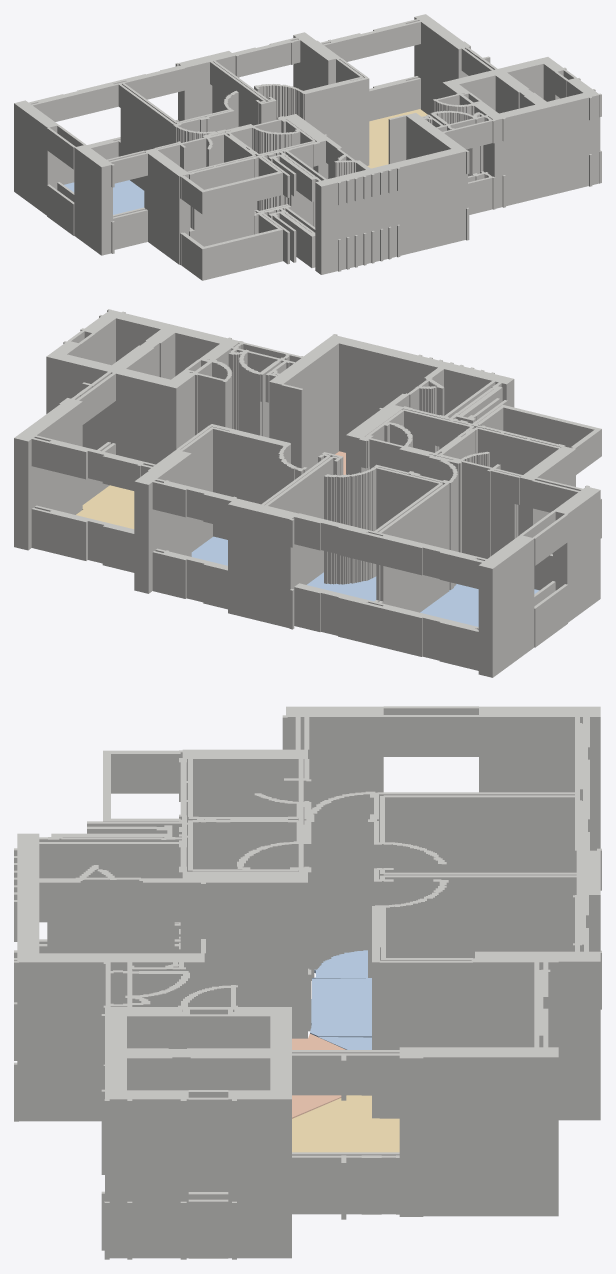
3 views of the same model, one above another, from view 1: azimuth 30°, elevation 25°; view 2: azimuth 150°, elevation 25°; view 3: azimuth 270°, elevation 25° (orthographic). The views are drawn at different scales.
Parts seen in each view (by area): view 1: walls, room:living:2, room:bedroom:0; view 2: walls, room:living:2, room:bedroom:0, room:bedroom:1, room:bedroom:5; view 3: walls, room:living:2, room:bedroom:1, room:bedroom:0, room:kitchen:10.
Boxes of the visible parts, x1,y1,x2,y2 form: walls: (14,14,601,280); room:living:2: (367,109,427,168); room:bedroom:0: (64,180,144,214); walls: (14,309,601,677); room:living:2: (76,485,134,528); room:bedroom:0: (420,584,539,626); room:bedroom:1: (307,572,376,601); room:bedroom:5: (191,536,227,565); walls: (14,706,601,1259); room:living:2: (292,1095,399,1152); room:bedroom:1: (310,978,371,1037); room:bedroom:0: (312,950,367,978); room:kitchen:10: (292,1033,345,1118).
Bounding box in the file's own units: 14.92 × 2.8 × 9.39.
